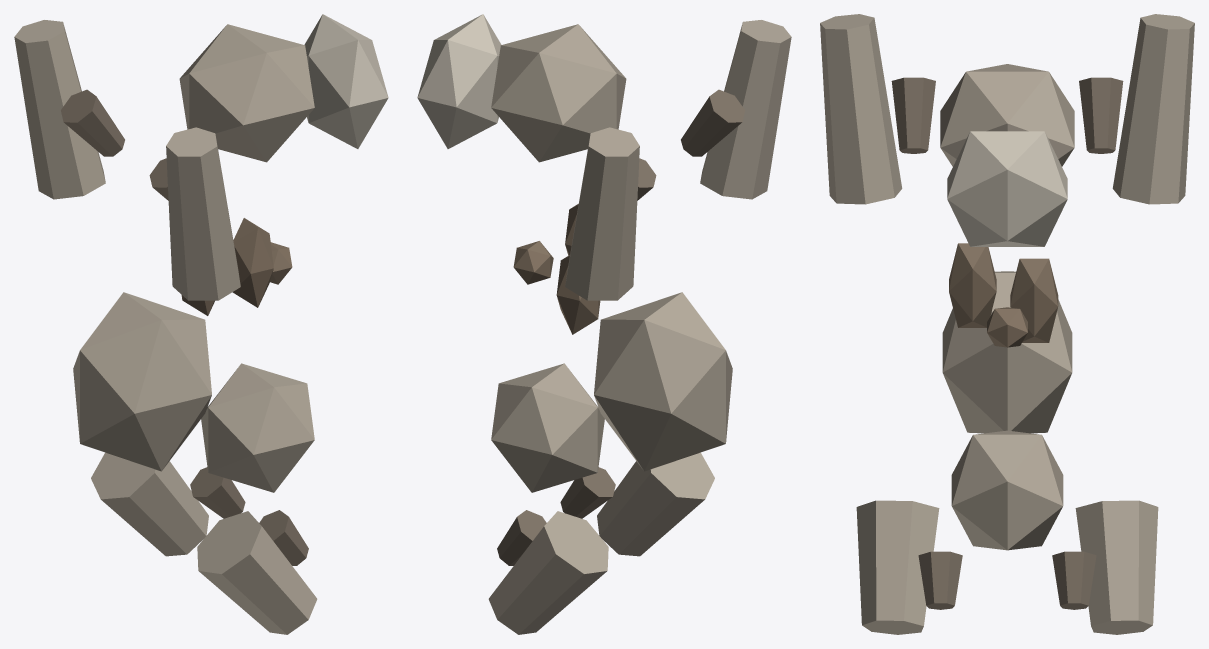
The picture shows the model from 3 angles, left to right: view 1: azimuth 30°, elevation 25°; view 2: azimuth 150°, elevation 25°; view 3: azimuth 270°, elevation 25°; orthographic projection. The views are drawn at different scales.
Parts seen in each view (by area): view 1: part0, part2, part1, part9, part7, part13, part3, part11, part5, part8, part12, part14 (+2 smaller); view 2: part0, part2, part1, part7, part9, part11, part3, part13, part10, part14, part4, part12 (+2 smaller); view 3: part0, part7, part9, part3, part1, part11, part13, part2, part5, part4, part8, part10 (+3 smaller).
Part boxes in pixels (x1,y1,x2,y2): part0: (73,292,211,471); part2: (179,24,314,162); part1: (201,363,314,492); part9: (166,127,240,300); part7: (14,20,105,199); part13: (197,511,317,634); part3: (304,14,388,148); part11: (91,452,208,556); part5: (232,218,273,307); part8: (61,89,124,156); part12: (190,467,245,518); part14: (259,510,308,565); part0: (594,292,732,471); part2: (491,24,626,162); part1: (491,363,604,492); part7: (565,127,639,300); part9: (700,20,791,199); part11: (488,511,608,634); part3: (417,14,501,148); part13: (597,452,714,556); part10: (681,89,744,156); part14: (560,467,615,518); part4: (556,255,600,334); part12: (497,510,546,565); part0: (942,271,1072,433); part7: (1112,14,1194,204); part9: (820,14,902,204); part3: (947,131,1067,246); part1: (951,430,1063,550); part11: (1075,500,1158,634); part13: (856,500,939,634); part2: (940,64,1074,166); part5: (949,243,996,327); part4: (1010,258,1058,342); part8: (1079,77,1123,153); part10: (891,77,935,153).
Size of the model in its own units: 2.66 by 4.77 by 2.8.
